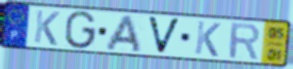A: (104, 14, 144, 54)
G: (63, 9, 98, 51)
K: (33, 8, 62, 47), (194, 19, 223, 58)
R: (228, 21, 262, 61)
V: (146, 15, 183, 56)
